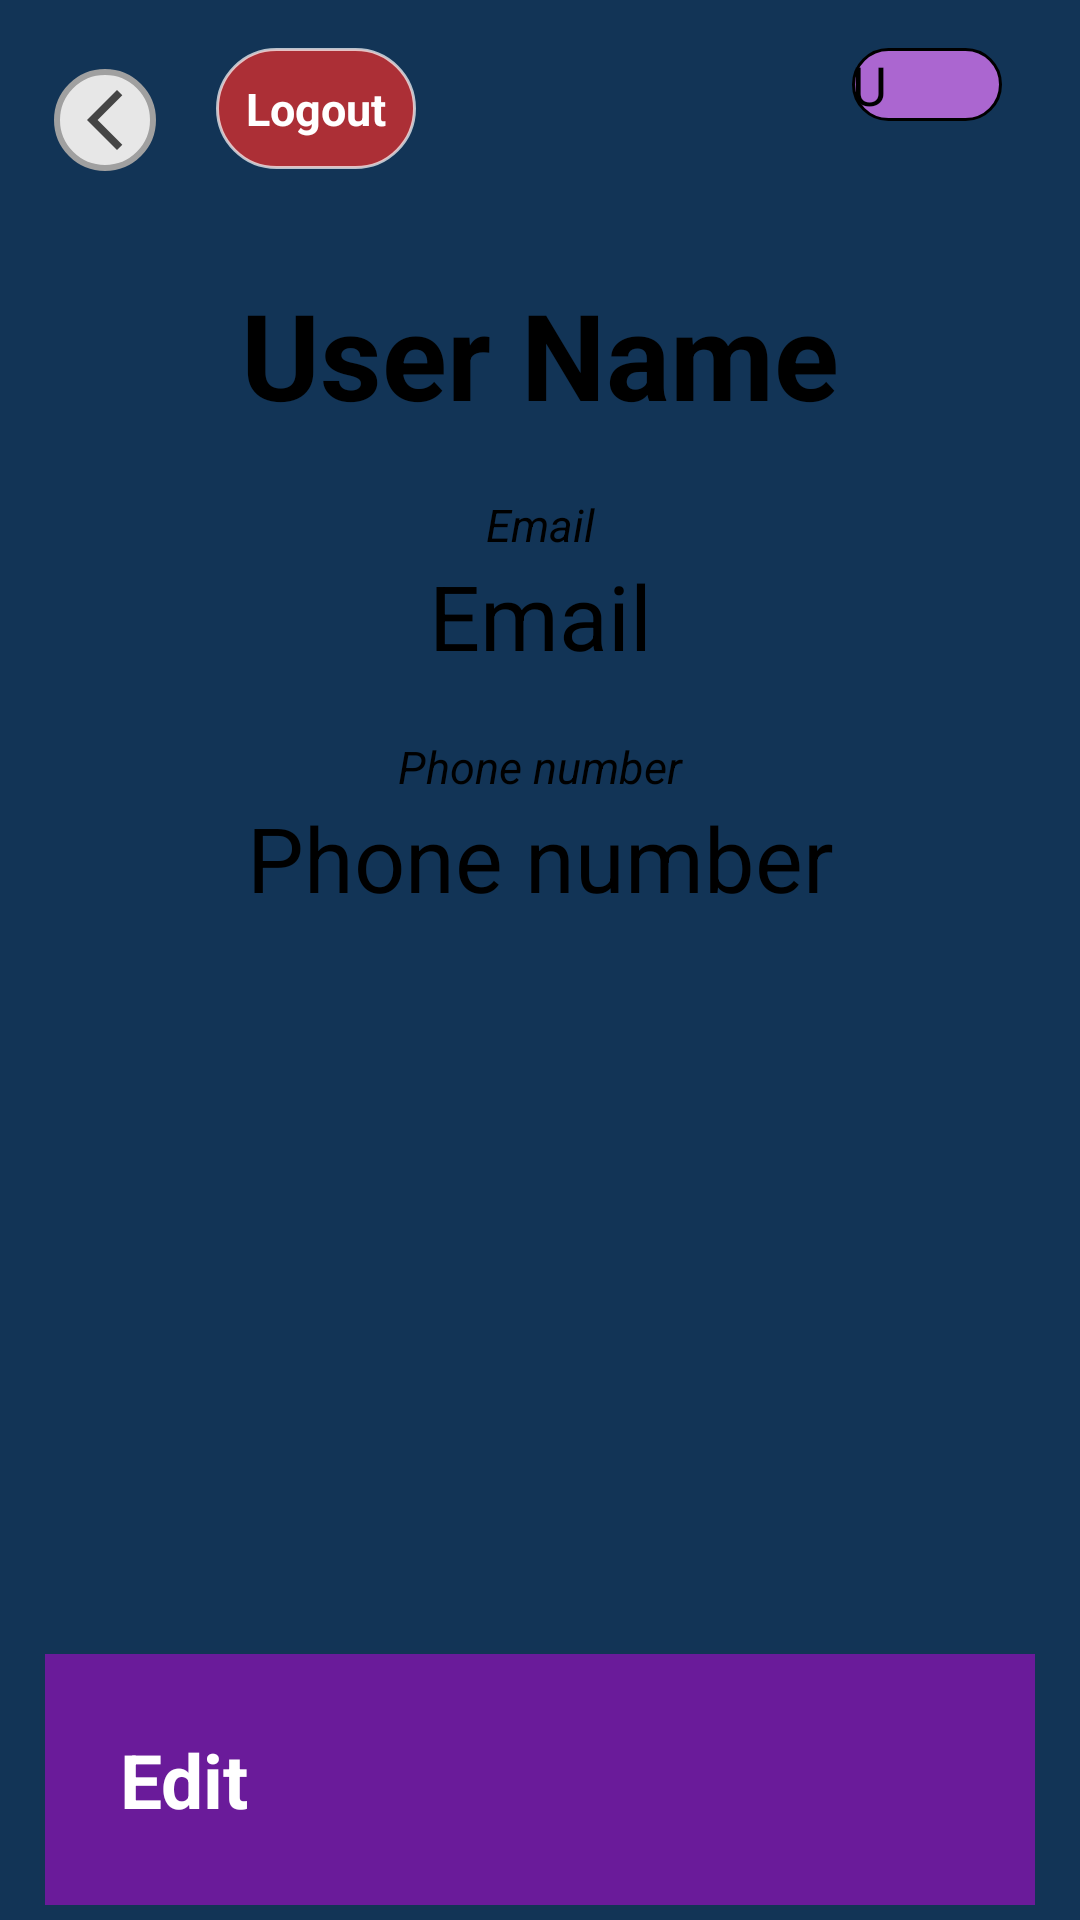

Icon bounding boxes for this 1080px x 1920px phone screenshot, format [left=x1, top=y1, right=x2, bottom=y2]:
Back: [left=54, top=69, right=156, bottom=171]
